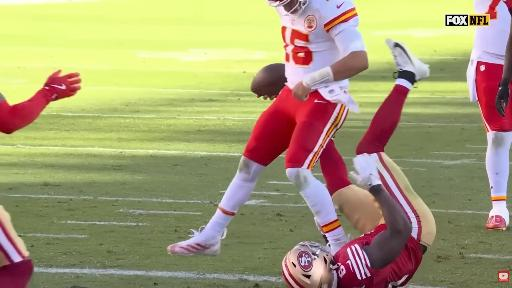Helmet: (282, 242, 337, 287), (266, 0, 308, 15)
Jersey: (281, 0, 358, 88), (333, 224, 422, 287), (471, 0, 511, 64)
Player: (168, 0, 368, 254), (282, 40, 435, 287), (467, 0, 511, 229), (321, 143, 394, 245), (0, 71, 81, 133), (497, 21, 511, 117)
